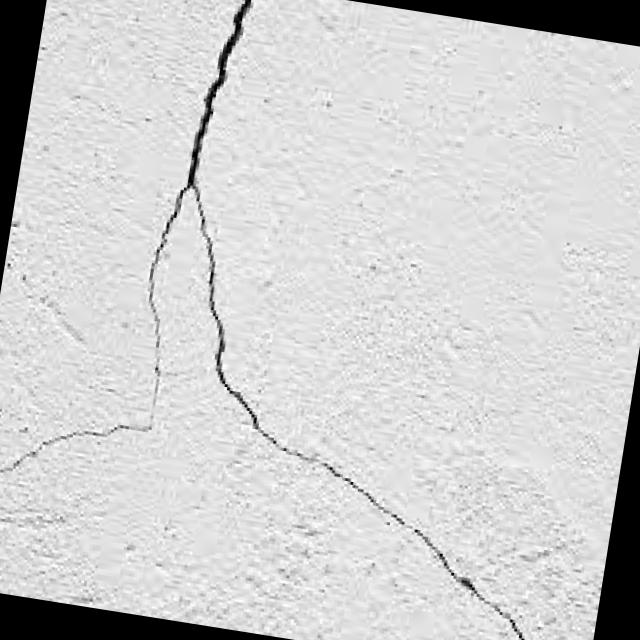crack: (126, 180, 626, 640), (0, 0, 253, 500)
